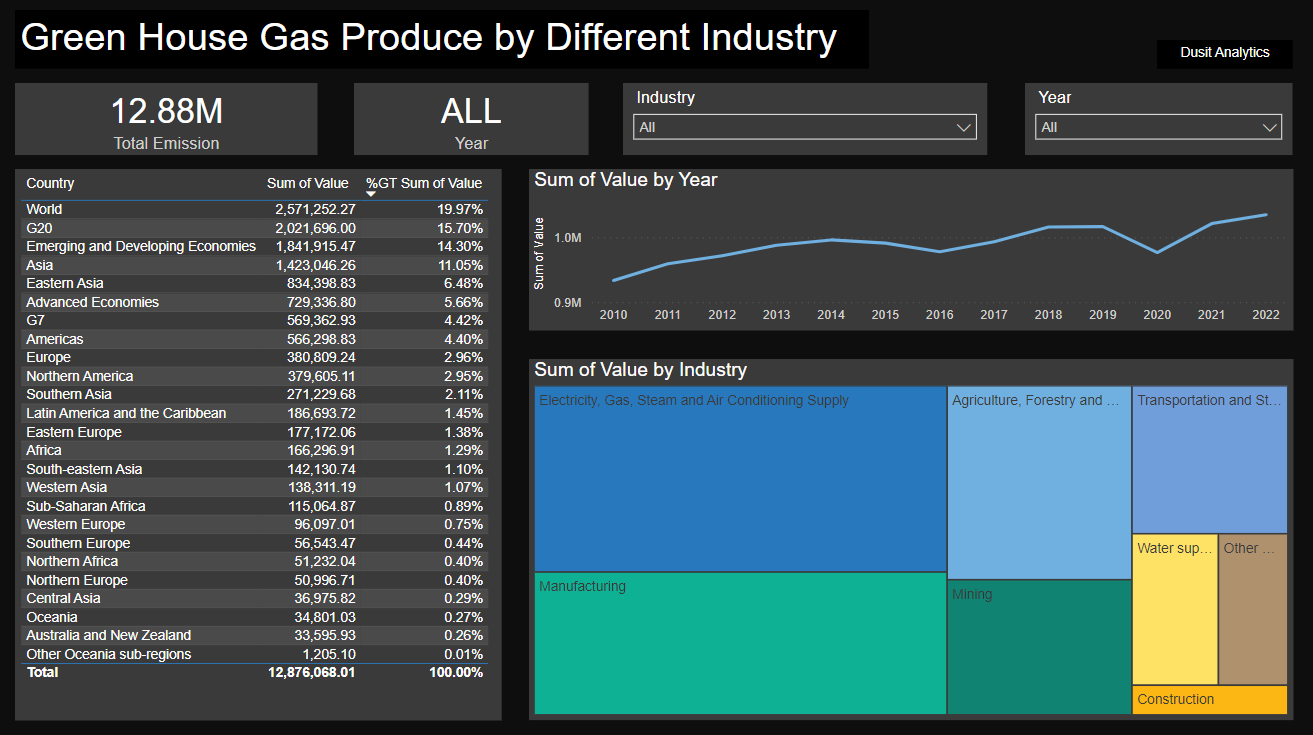

The dashboard page shown, as its layout file describes it:
{"tool":"powerbi","page":{"name":"Overall","canvas":[1280,720],"ordinal":0},"visuals":[{"type":"treemap","fields":{"Group":["Annual Greenhouse Gas (GHG) Air Emissions Accounts.Industry"],"Values":["Sum(Annual Greenhouse Gas (GHG) Air Emissions Accounts.Value)"]},"box":[515.1,351.8,742.5,350.9],"z":0},{"type":"tableEx","fields":{"Values":["Annual Greenhouse Gas (GHG) Air Emissions Accounts.Country","Sum(Annual Greenhouse Gas (GHG) Air Emissions Accounts.Value)","Divide(Sum(Annual Greenhouse Gas (GHG) Air Emissions Accounts.Value), ScopedEval(Sum(Annual Greenhouse Gas (GHG) Air Emi"]},"box":[15.6,167.2,473.3,535.5],"z":1000},{"type":"lineChart","fields":{"Y":["Sum(Annual Greenhouse Gas (GHG) Air Emissions Accounts.Value)"],"Category":["Annual Greenhouse Gas (GHG) Air Emissions Accounts.Year"]},"box":[515.1,167.2,742.5,157.4],"z":2000},{"type":"slicer","fields":{"Values":["Annual Greenhouse Gas (GHG) Air Emissions Accounts.Year"]},"box":[997.2,83.6,260.5,70],"z":3000},{"type":"card","fields":{"Values":["Sum(Annual Greenhouse Gas (GHG) Air Emissions Accounts.Value)"]},"box":[15.6,83.6,294.5,70],"z":4000},{"type":"card","fields":{"Values":["Annual Greenhouse Gas (GHG) Air Emissions Accounts.Measure"]},"box":[345,83.6,228.4,70],"z":5000},{"type":"slicer","fields":{"Values":["Annual Greenhouse Gas (GHG) Air Emissions Accounts.Industry"]},"box":[606.5,83.6,353.8,70],"z":6000},{"type":"textbox","box":[15.6,12.6,830,57.3],"z":7000},{"type":"textbox","box":[1125.5,41.8,132.2,28.2],"z":8000}]}

Visuals, with their boxes in screenshot pixels (x1, y1, x2, y2), scaled from the page's 1280x720 canvas onto the 1313x735 screenshot:
treemap - Annual Greenhouse Gas (GHG) Air Emissions Accounts.Industry x Sum(Annual Greenhouse Gas (GHG) Air Emissions Accounts.Value): <bbox>528, 359, 1290, 717</bbox>
tableEx - Annual Greenhouse Gas (GHG) Air Emissions Accounts.Country x Sum(Annual Greenhouse Gas (GHG) Air Emissions Accounts.Value): <bbox>16, 171, 502, 717</bbox>
lineChart - Sum(Annual Greenhouse Gas (GHG) Air Emissions Accounts.Value) x Annual Greenhouse Gas (GHG) Air Emissions Accounts.Year: <bbox>528, 171, 1290, 331</bbox>
slicer - Annual Greenhouse Gas (GHG) Air Emissions Accounts.Year: <bbox>1023, 85, 1290, 157</bbox>
card - Sum(Annual Greenhouse Gas (GHG) Air Emissions Accounts.Value): <bbox>16, 85, 318, 157</bbox>
card - Annual Greenhouse Gas (GHG) Air Emissions Accounts.Measure: <bbox>354, 85, 588, 157</bbox>
slicer - Annual Greenhouse Gas (GHG) Air Emissions Accounts.Industry: <bbox>622, 85, 985, 157</bbox>
textbox: <bbox>16, 13, 867, 71</bbox>
textbox: <bbox>1155, 43, 1290, 71</bbox>
